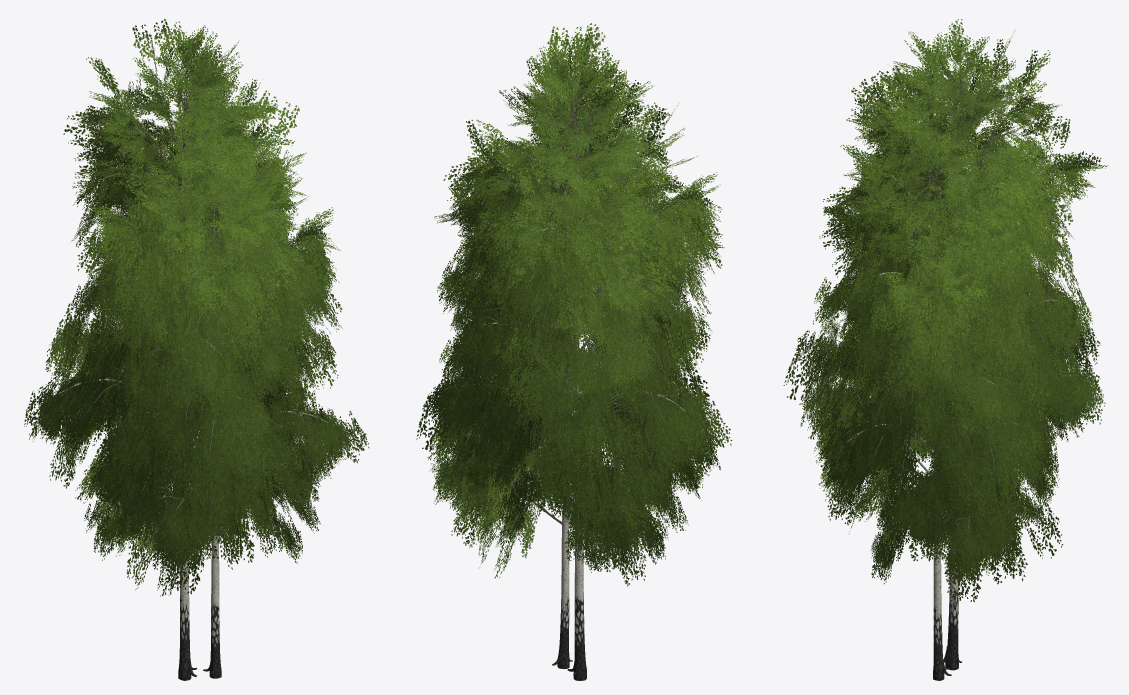
Rendered from BirchCoppice.glb.
3 views of the same model, side by side, from view 1: azimuth 30°, elevation 25°; view 2: azimuth 150°, elevation 25°; view 3: azimuth 270°, elevation 25° (orthographic).
Visible parts, largest first — view 1: leaves (×2), trunk (×2), branches (×2); view 2: leaves (×2), branches (×2), trunk (×2); view 3: leaves (×2), branches (×2), trunk (×2).
Part boxes in pixels (x1=…): leaves (×2): x1=24, y1=19, x2=369, y2=596; trunk (×2): x1=178, y1=135, x2=221, y2=680; branches (×2): x1=59, y1=67, x2=332, y2=527; leaves (×2): x1=416, y1=23, x2=732, y2=586; branches (×2): x1=449, y1=79, x2=690, y2=544; trunk (×2): x1=552, y1=159, x2=586, y2=680; leaves (×2): x1=783, y1=19, x2=1108, y2=604; branches (×2): x1=820, y1=65, x2=1075, y2=539; trunk (×2): x1=933, y1=217, x2=961, y2=680.
Size of the model in its own units: 7.02 by 14.2 by 6.7.
Materials: 3 (3 with a texture image).
